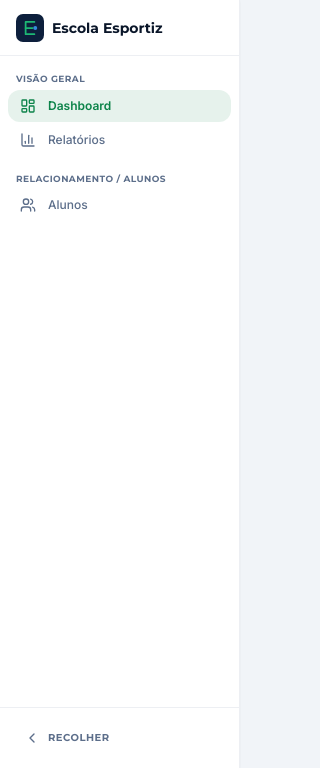
Test case: Sidebar › collapses and expands when toggle button is clicked
The width and height of the screenshot is (320, 768).
Check: the text "Recolher" is shown, box [48,728,110,748]
// Click collapse
Click the button with aria-label "Recolher menu lateral". click: (120, 738)
box: [12,720,227,756]
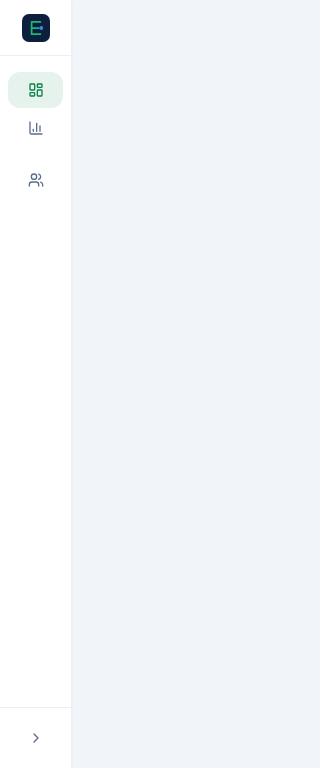
Check: the text "Recolher" is gone
// Click expand
Click the button named "Expandir menu lateral". click: (36, 738)
box: [12,720,59,756]
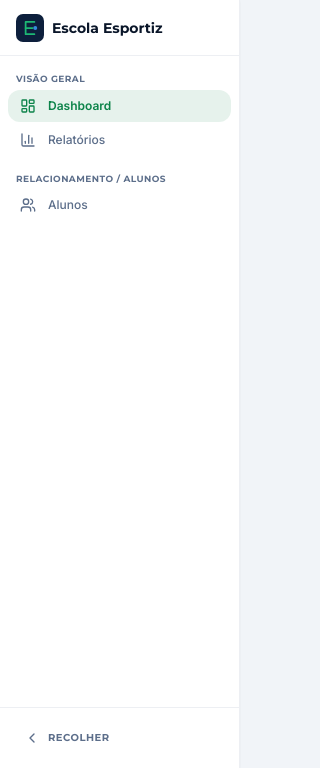
Check: the text "Recolher" is shown, box [48,728,110,748]
